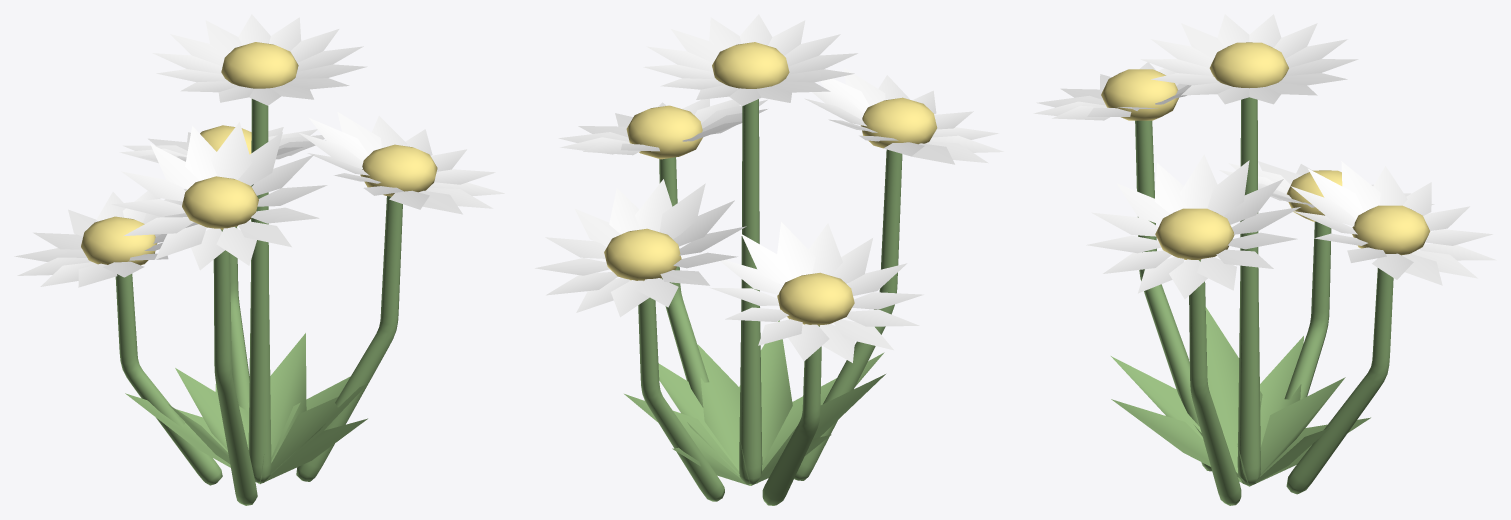
The model's file is plant.daisy.glb.
The picture shows the model from 3 angles, left to right: view 1: azimuth 30°, elevation 25°; view 2: azimuth 150°, elevation 25°; view 3: azimuth 270°, elevation 25°; orthographic projection.
Visible parts, largest first — view 1: Petal, Stem, Pollen; view 2: Petal, Stem, Pollen; view 3: Stem, Petal, Pollen.
Part boxes in pixels (x1,y1,x2,y2): Petal: (14, 14, 504, 287); Stem: (115, 99, 402, 505); Pollen: (81, 42, 437, 265); Petal: (535, 14, 1003, 362); Stem: (624, 99, 902, 505); Pollen: (604, 42, 937, 325); Stem: (1111, 97, 1393, 505); Petal: (1033, 14, 1496, 299); Pollen: (1101, 42, 1430, 259).
Bounding box in the file's own units: 0.8741 × 0.9172 × 0.8736.
